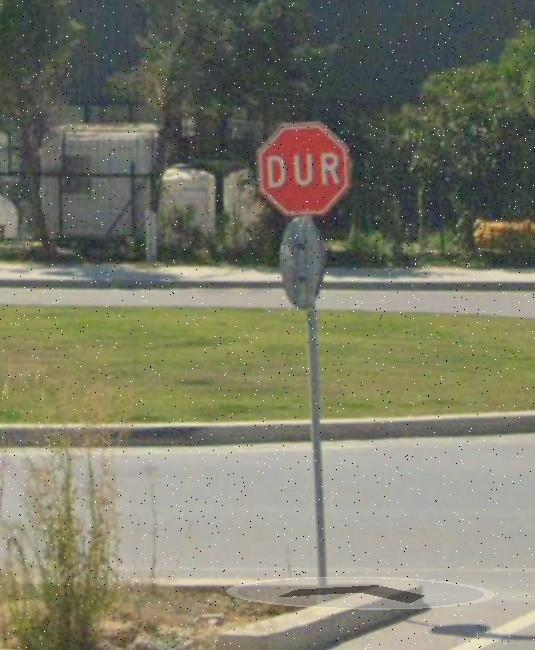stop: (260, 123, 352, 216)
